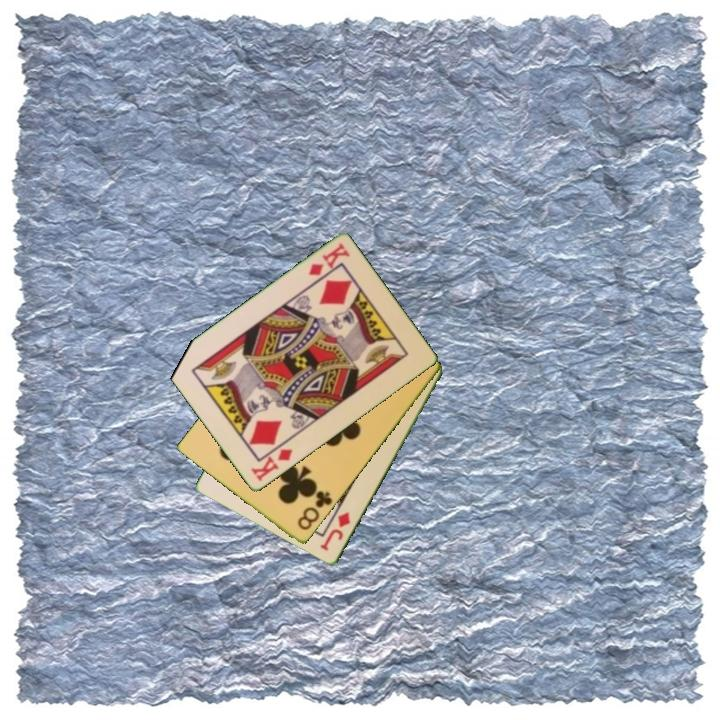8c: (294, 487, 335, 534)
Jd: (316, 508, 353, 554)
Kd: (247, 445, 296, 485), (305, 240, 352, 279)
